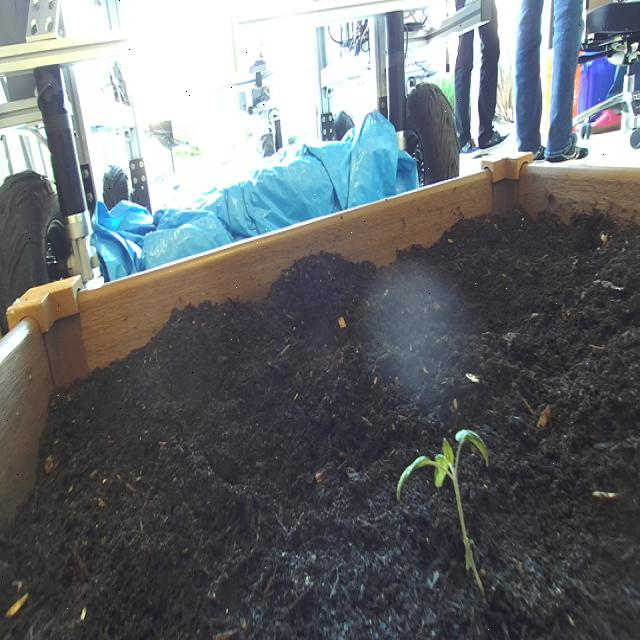Healthy: (394, 422, 494, 604)
